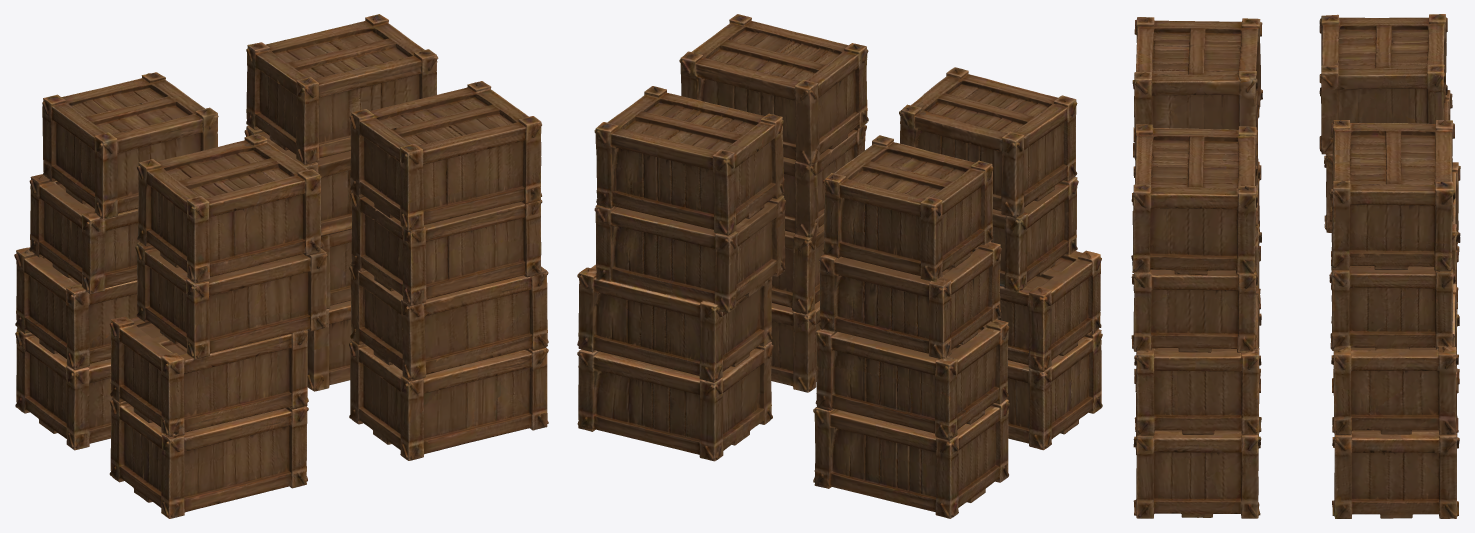
File: Meshy_AI_A_stacked_cluster_of__0824213024_texture-optimized.glb
The picture shows the model from 3 angles, left to right: view 1: azimuth 30°, elevation 25°; view 2: azimuth 150°, elevation 25°; view 3: azimuth 270°, elevation 25°; orthographic projection. The views are drawn at different scales.
Visible parts, largest first — view 1: mesh_node; view 2: mesh_node; view 3: mesh_node.
Part boxes in pixels (box(x1,y1,x2,y2)): mesh_node: box(14, 14, 548, 518); mesh_node: box(577, 14, 1102, 518); mesh_node: box(1131, 14, 1460, 518).
Bounding box in the file's own units: 1.9 × 1.48 × 1.35.
Materials: 1 (1 with a texture image).
